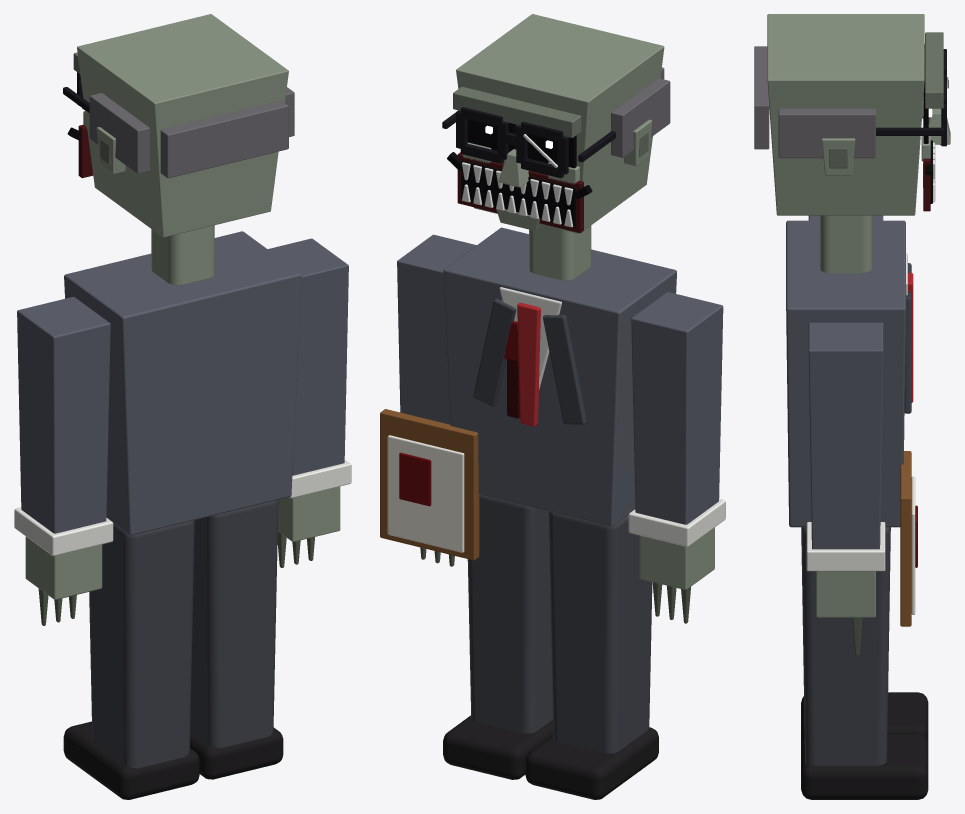
File: manager_night.glb
3 views of the same model, side by side, from view 1: azimuth 30°, elevation 25°; view 2: azimuth 150°, elevation 25°; view 3: azimuth 270°, elevation 25° (orthographic). The views are drawn at different scales.
Visible parts, largest first — view 1: Torso, Head, LegL, ArmL, LegR, ArmR, NeckMesh; view 2: Torso, Head, LegL, ArmL, LegR, ArmR, NeckMesh; view 3: Head, ArmR, Torso, LegR, NeckMesh, LegL.
Boxes of the visible parts, <box> form: Torso: <box>64,231,301,535</box>; Head: <box>63,14,294,237</box>; LegL: <box>63,520,199,799</box>; ArmL: <box>14,296,113,625</box>; LegR: <box>190,500,283,779</box>; ArmR: <box>268,238,351,567</box>; NeckMesh: <box>151,225,214,285</box>; Torso: <box>443,227,676,526</box>; Head: <box>442,14,670,233</box>; LegL: <box>525,511,658,799</box>; ArmL: <box>628,292,725,623</box>; LegR: <box>443,494,553,779</box>; ArmR: <box>380,234,479,566</box>; NeckMesh: <box>529,224,591,280</box>; Head: <box>754,14,950,215</box>; ArmR: <box>806,322,917,655</box>; Torso: <box>786,220,913,527</box>; LegR: <box>801,527,928,799</box>; NeckMesh: <box>819,215,872,273</box>; LegL: <box>801,692,928,743</box>.
Size of the model in its own units: 0.935 by 2.11 by 0.5245.
